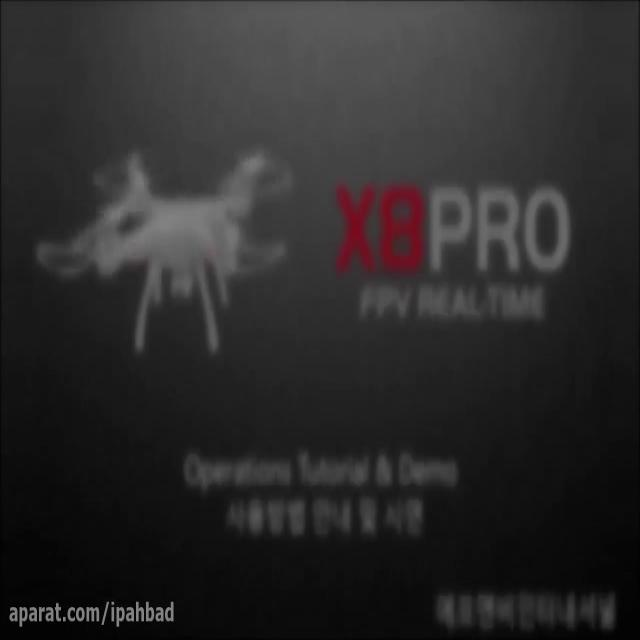drone: (32, 144, 296, 358)
